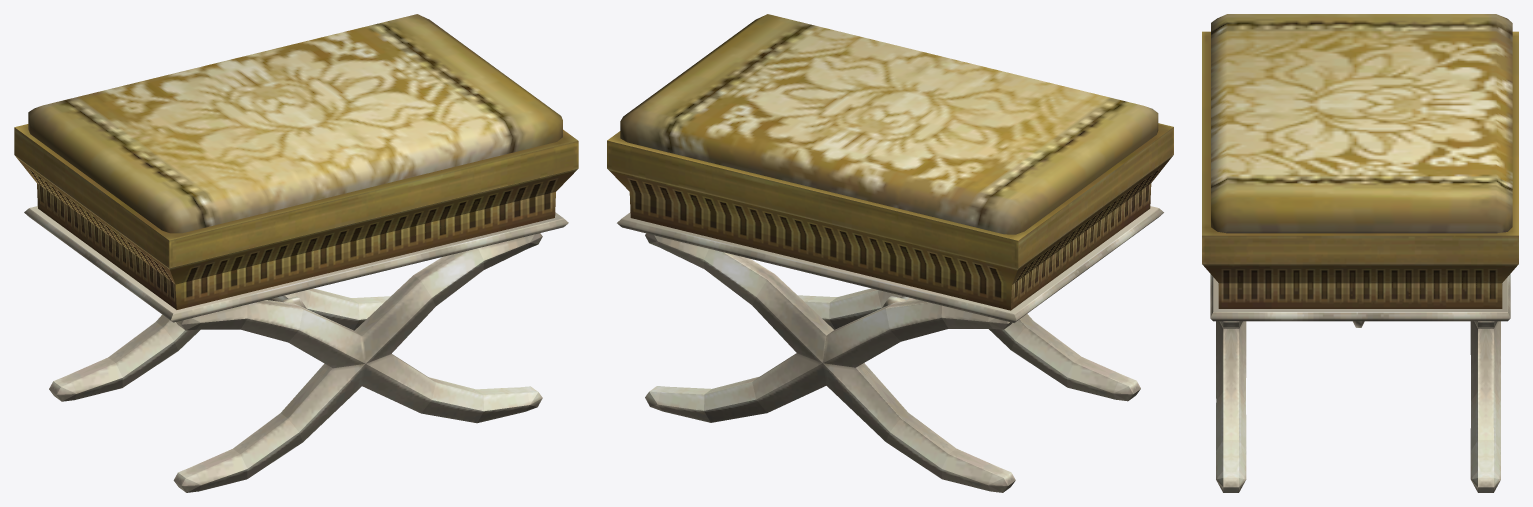
Rendered from furni_0201116.FBX.
The picture shows the model from 3 angles, left to right: view 1: azimuth 30°, elevation 25°; view 2: azimuth 150°, elevation 25°; view 3: azimuth 270°, elevation 25°; orthographic projection. The views are drawn at different scales.
Visible parts, largest first — view 1: furni_0201116; view 2: furni_0201116; view 3: furni_0201116.
Part boxes in pixels (box(x1,y1,x2,y2)): furni_0201116: box(14, 14, 578, 492); furni_0201116: box(607, 14, 1173, 492); furni_0201116: box(1202, 14, 1518, 492).
Bounding box in the file's own units: 65.56 × 44.99 × 43.
1 material, 1 textured.
